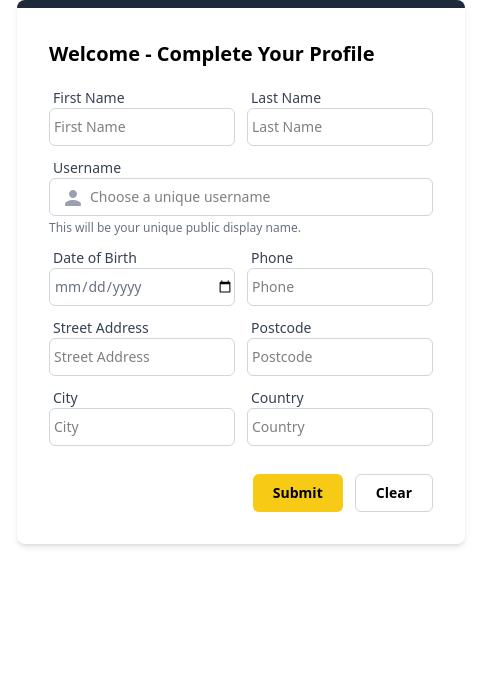
it: APP - pages/user - OnboardingForm › exhaustively covers lines by exercising every "add" mode field
In the field labelled "First Name": (142, 127) [49,108,235,146], type "John"
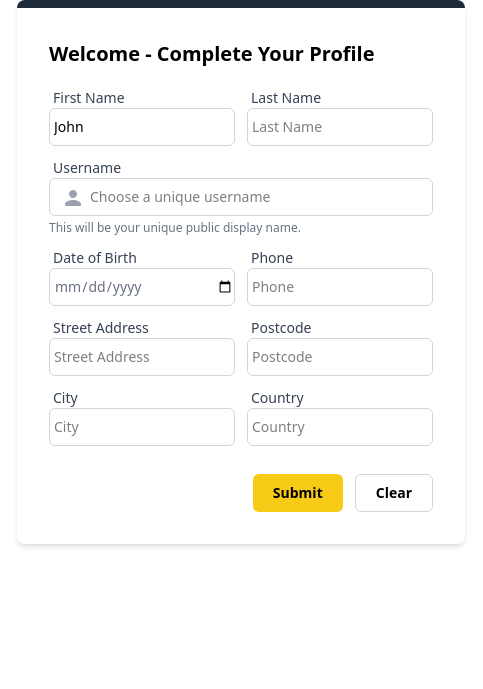
In the field labelled "Last Name": (340, 127) [247,108,433,146], type "Doe"
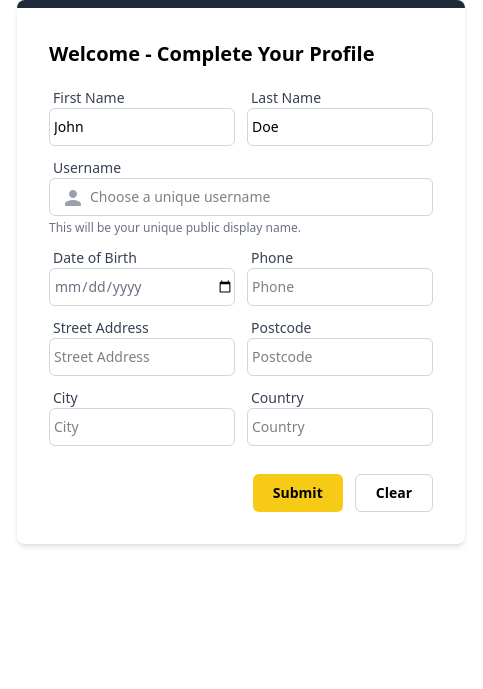
In the field labelled "Phone": (340, 287) [247,268,433,306], type "07123456789"
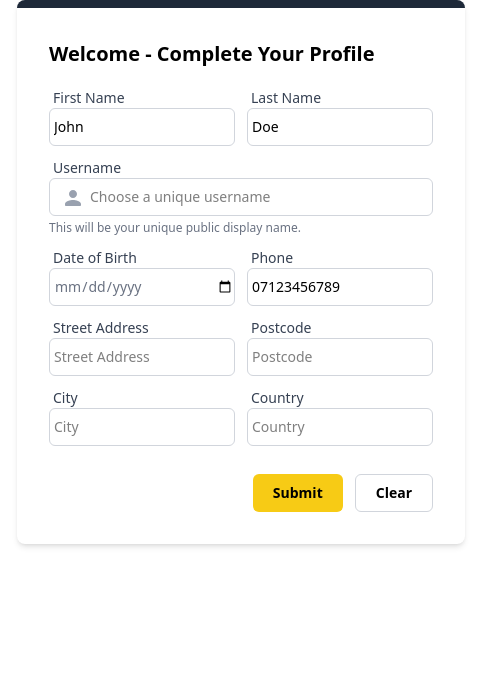
In the date field labelled "Date of Birth": (142, 287) [49,268,235,306], type "1990-01-01"
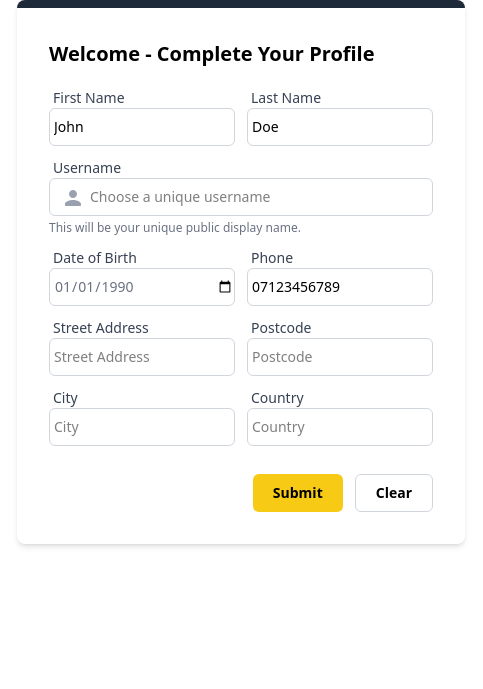
Replace the text in the field labelled "First Name" with "J": (142, 127) [49,108,235,146]
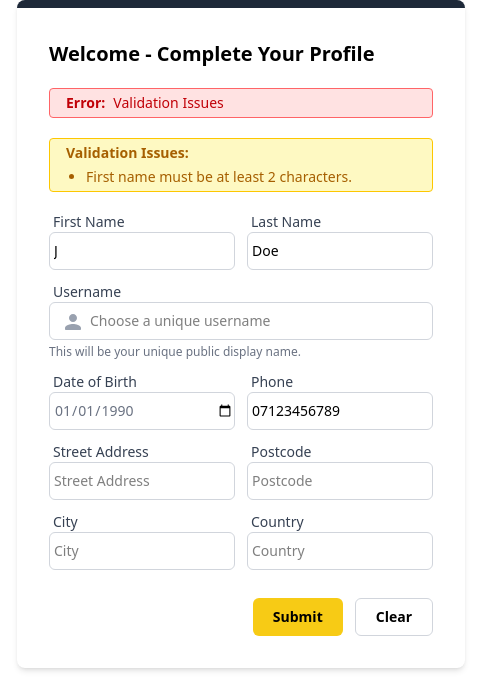
expect the text "Validation Issues" is shown: met, box [105,93,224,112]
expect the list item "First name must be at least 2 characters." is shown: met, box [86,167,352,186]
